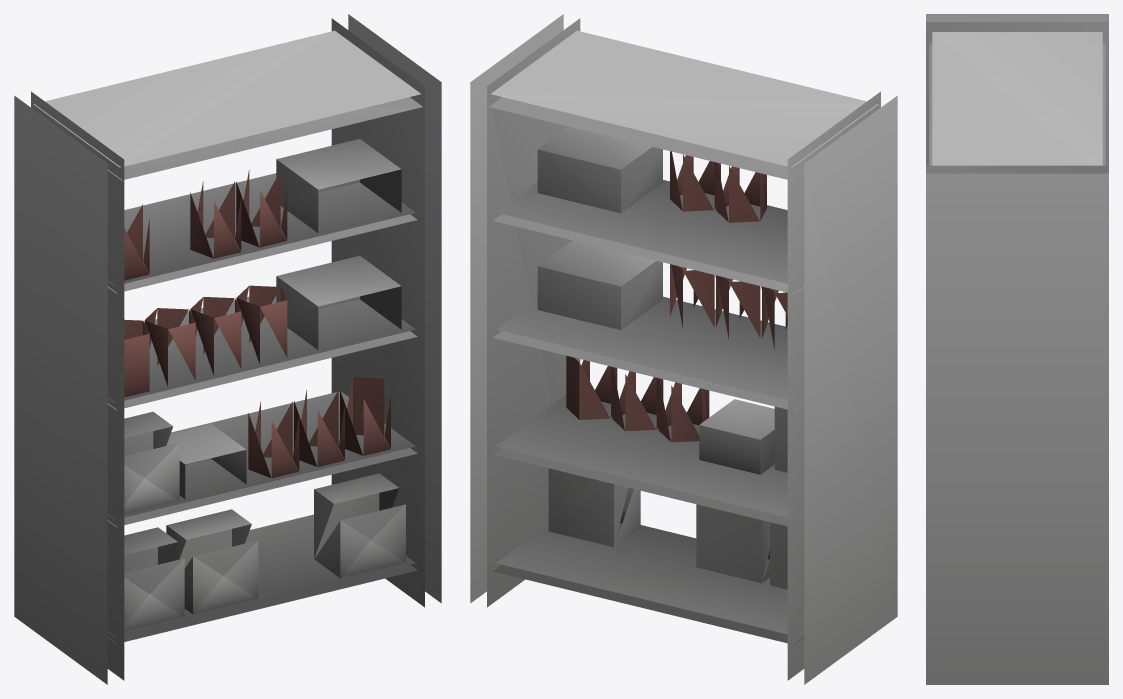
Rendered from shelf.lod.glb.
3 renders of one model, left to right at view 1: azimuth 30°, elevation 25°; view 2: azimuth 150°, elevation 25°; view 3: azimuth 270°, elevation 25°, orthographic.
Visible parts, largest first — view 1: shelf; view 2: shelf; view 3: shelf.
Part boxes in pixels (left/top/right/bottom): shelf: left=14, top=14, right=441, bottom=684; shelf: left=470, top=14, right=897, bottom=684; shelf: left=926, top=14, right=1108, bottom=684.
Size of the model in its own units: 1.2 by 1.79 by 0.58.
